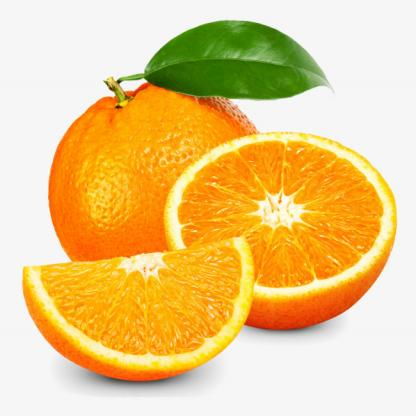orange: (38, 82, 265, 302)
